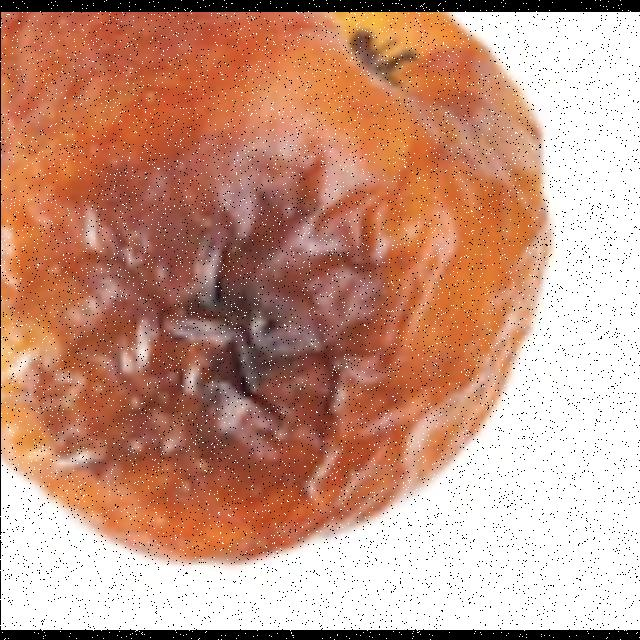Apel Tidak Segar: (0, 11, 543, 566)
